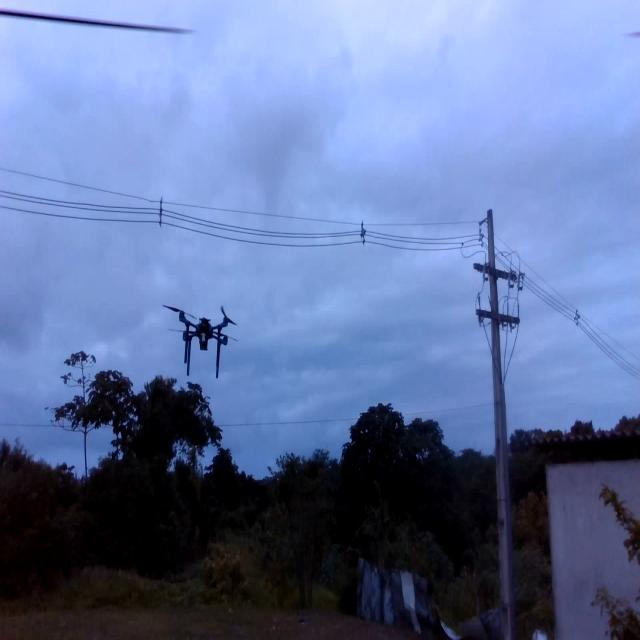-uav-: (151, 283, 257, 388)
